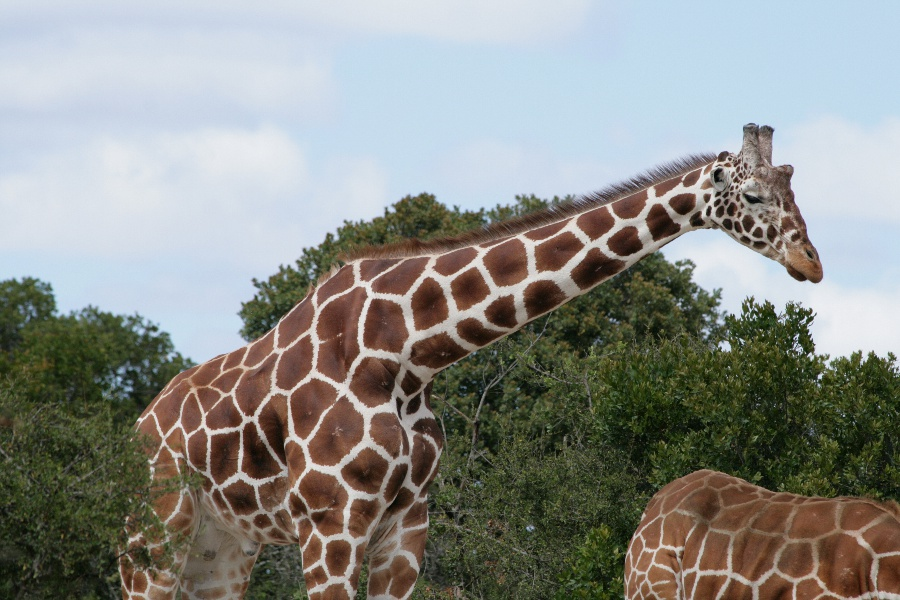giraffe: (112, 115, 829, 599), (625, 462, 899, 599)
